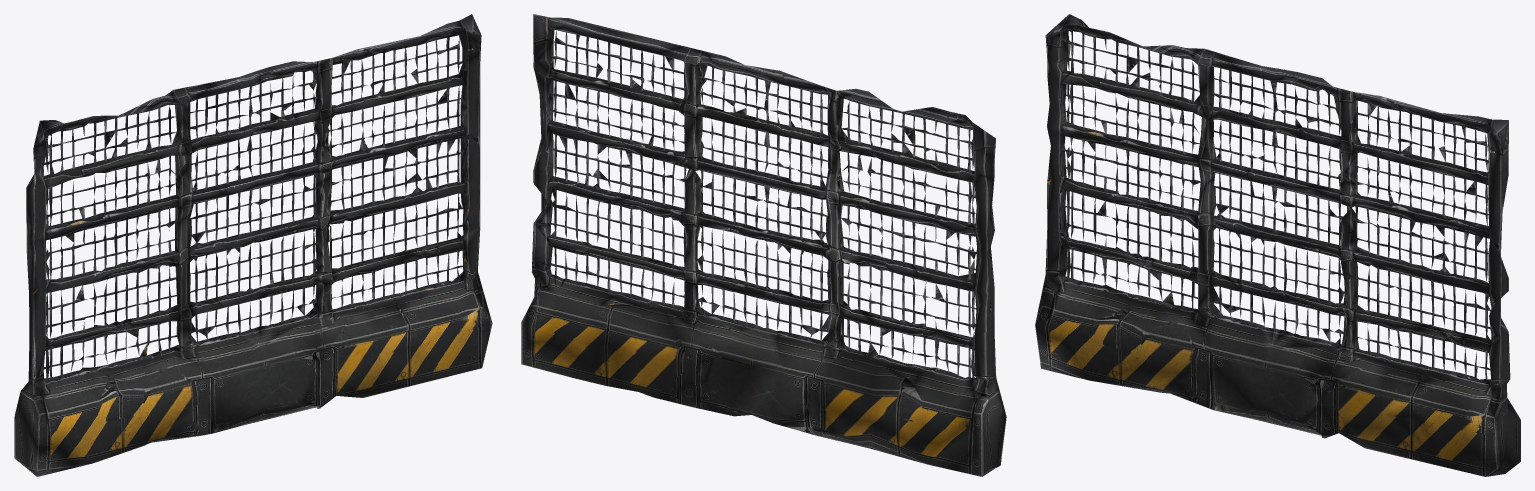
Rendered from arena_fence.glb.
The picture shows the model from 3 angles, left to right: view 1: azimuth 30°, elevation 25°; view 2: azimuth 150°, elevation 25°; view 3: azimuth 330°, elevation 25°; orthographic projection.
Parts seen in each view (by area): view 1: mesh_node; view 2: mesh_node; view 3: mesh_node.
Boxes of the visible parts, x1=… form: mesh_node: x1=14, y1=14, x2=492, y2=476; mesh_node: x1=521, y1=14, x2=1006, y2=476; mesh_node: x1=1035, y1=14, x2=1520, y2=476.
Bounding box in the file's own units: 1.9 × 1.38 × 0.1779.
Materials: 1 (1 with a texture image).
